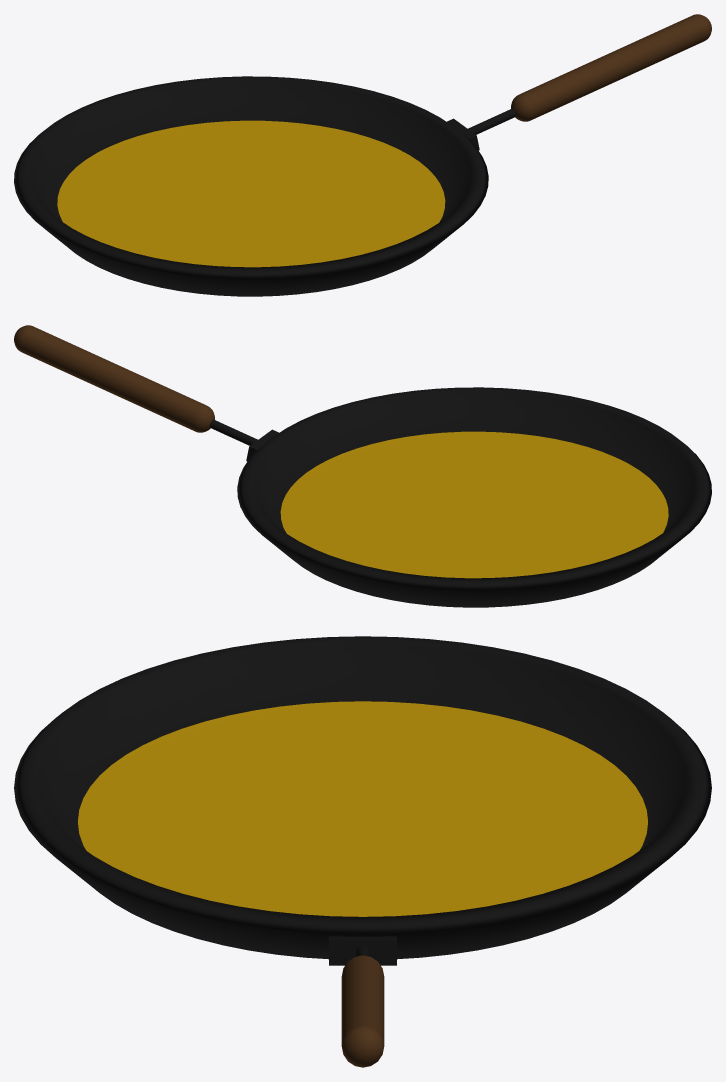
The model's file is poele_premium_vide.glb.
3 renders of one model, top to bottom at view 1: azimuth 30°, elevation 25°; view 2: azimuth 150°, elevation 25°; view 3: azimuth 270°, elevation 25°, orthographic. The views are drawn at different scales.
Size of the model in its own units: 13.25 by 1.67 by 8.2.
